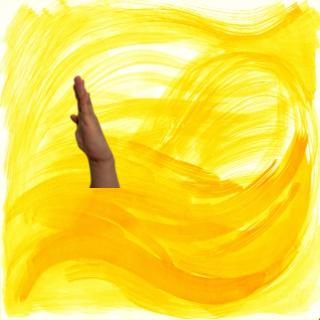RIGHT: (64, 72, 114, 165)
